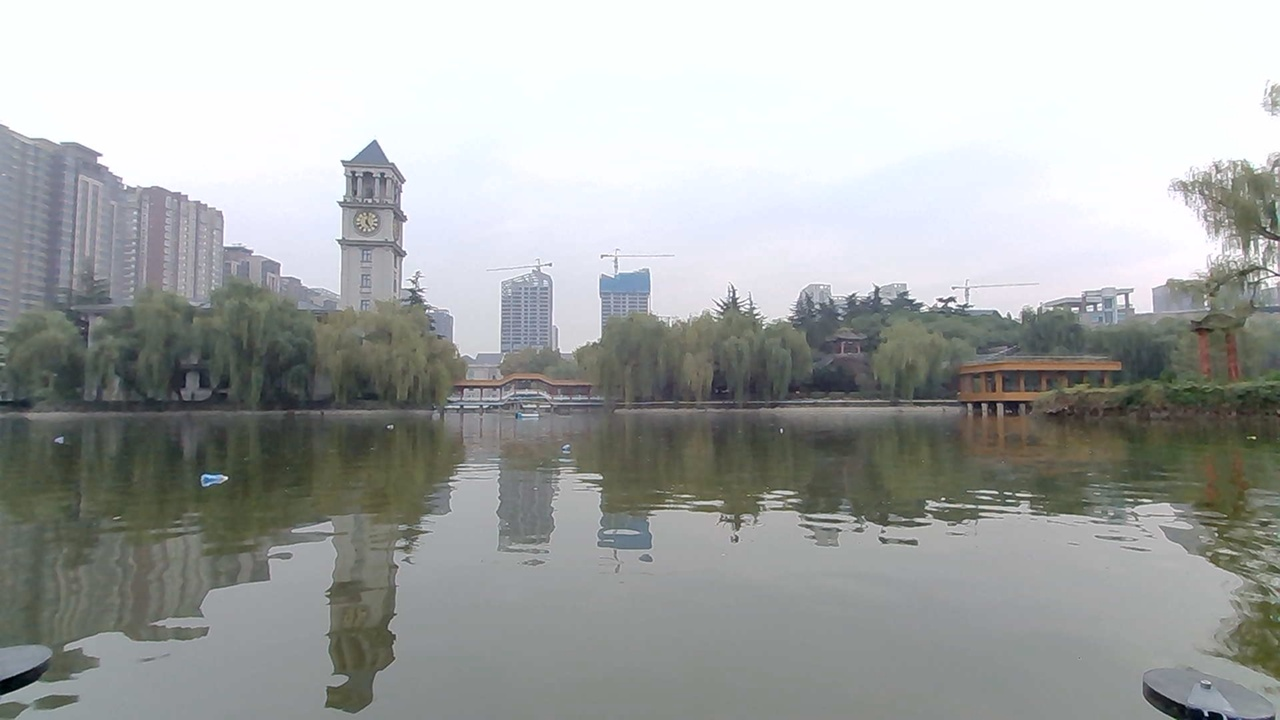bottle: (545, 431, 579, 458), (44, 430, 82, 454), (775, 419, 805, 445), (194, 470, 231, 491), (379, 412, 408, 434)
